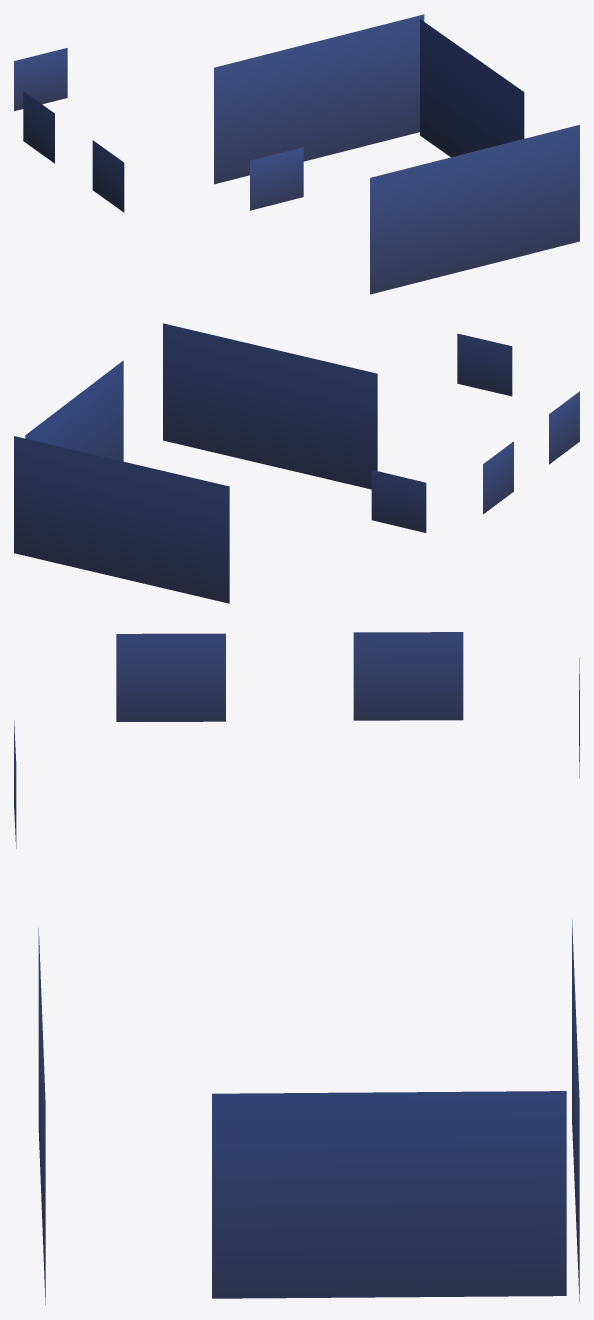
File: windowRefl.053.fbx
The picture shows the model from 3 angles, top to bottom: view 1: azimuth 30°, elevation 25°; view 2: azimuth 150°, elevation 25°; view 3: azimuth 270°, elevation 25°; orthographic projection. The views are drawn at different scales.
Visible parts, largest first — view 1: windowRefl.053; view 2: windowRefl.053; view 3: windowRefl.053.
Part boxes in pixels (box(x1,y1,x2,y2)): windowRefl.053: box(14, 14, 579, 294); windowRefl.053: box(14, 323, 579, 603); windowRefl.053: box(14, 632, 579, 1304).
Bounding box in the file's own units: 1003 × 1572 × 584.
